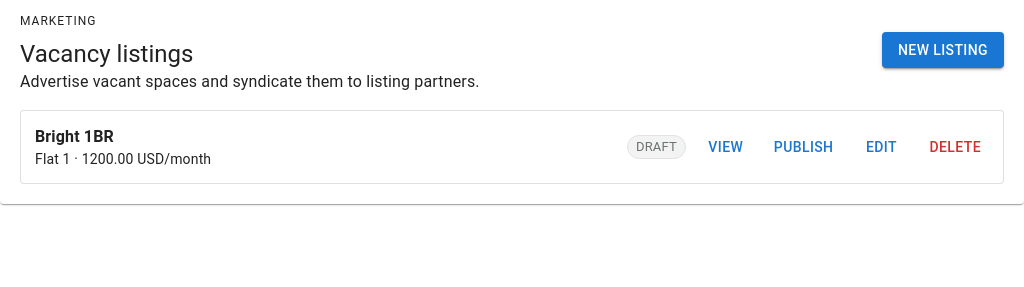
Test: shows an error instead of opening Edit when the listing cannot be loaded
Click the button "Edit": click(882, 147) 850,129 -> 914,165
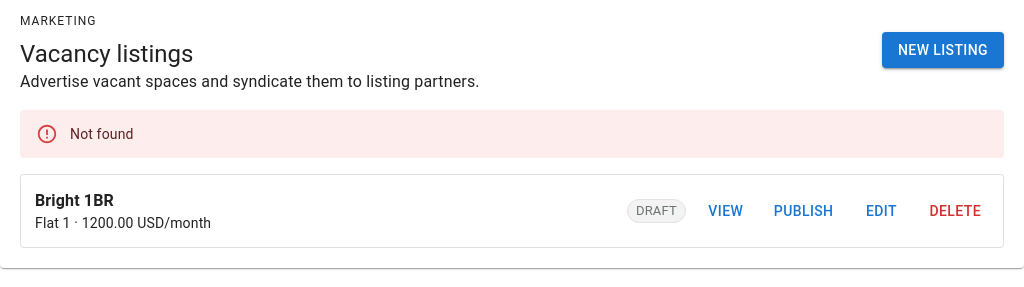
Now the text "Not found" is shown, box 70,126 -> 134,142
